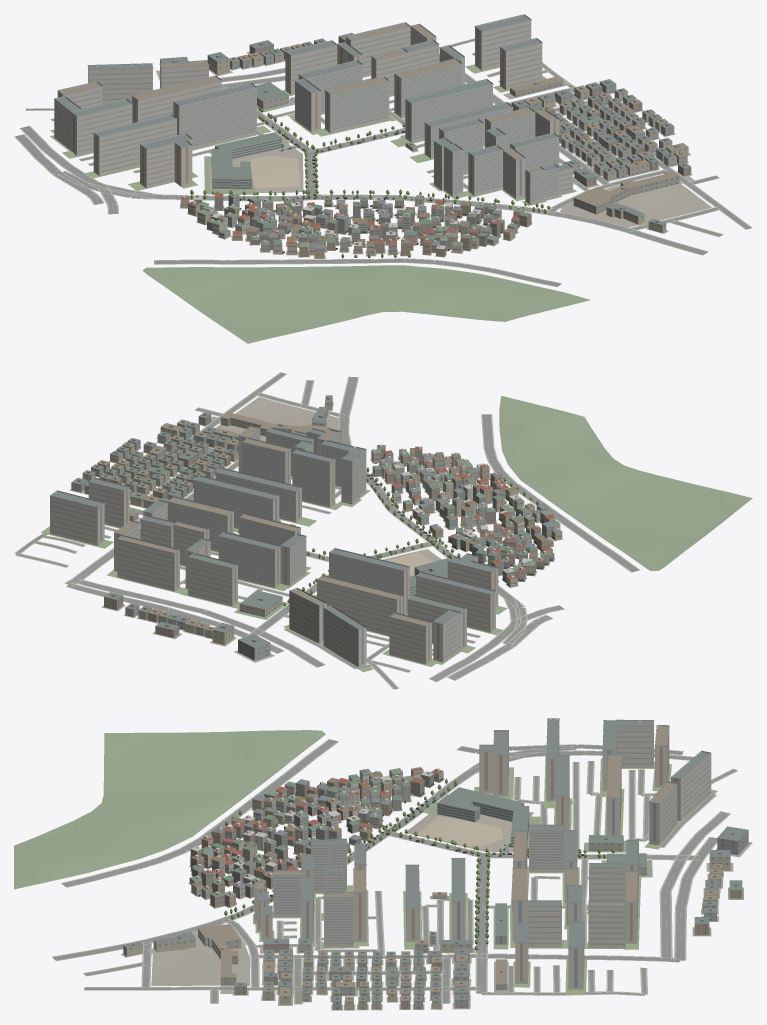
3 views of the same model, one above another, from view 1: azimuth 30°, elevation 25°; view 2: azimuth 150°, elevation 25°; view 3: azimuth 270°, elevation 25° (orthographic). The views are drawn at different scales.
Visible parts, largest first — view 1: context-osm-buildings, context-building-plinths, context-villa-infill, context-osm-roads, context-osm-sidewalks; view 2: context-osm-buildings, context-building-plinths, context-villa-infill, context-osm-roads, context-osm-sidewalks; view 3: context-osm-buildings, context-building-plinths, context-villa-infill, context-osm-roads, context-osm-sidewalks.
Boxes of the visible parts, bbox=[...] form: context-osm-buildings: bbox=[54, 14, 691, 232]; context-building-plinths: bbox=[50, 52, 711, 343]; context-villa-infill: bbox=[179, 107, 550, 258]; context-osm-roads: bbox=[15, 39, 751, 286]; context-osm-sidewalks: bbox=[14, 38, 752, 286]; context-osm-buildings: bbox=[50, 395, 498, 667]; context-building-plinths: bbox=[41, 396, 752, 672]; context-villa-infill: bbox=[234, 444, 563, 606]; context-osm-roads: bbox=[15, 372, 639, 689]; context-osm-sidewalks: bbox=[14, 372, 639, 689]; context-osm-buildings: bbox=[123, 718, 748, 1009]; context-building-plinths: bbox=[14, 730, 752, 1010]; context-villa-infill: bbox=[188, 767, 614, 950]; context-osm-roads: bbox=[52, 739, 736, 1004]; context-osm-sidewalks: bbox=[52, 739, 737, 1004].
Size of the model in its own units: 663 by 59.59 by 733.
